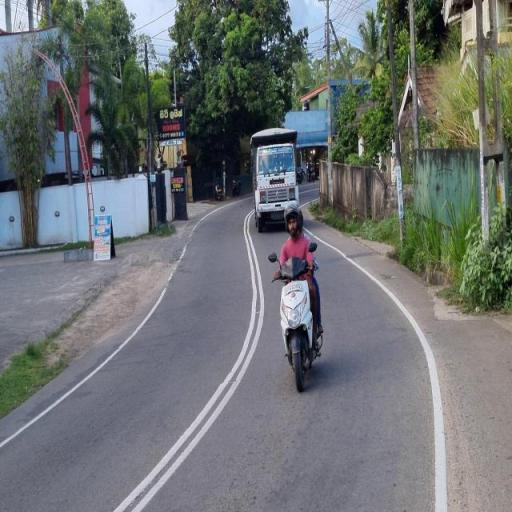double_white_line: (110, 210, 266, 512)
